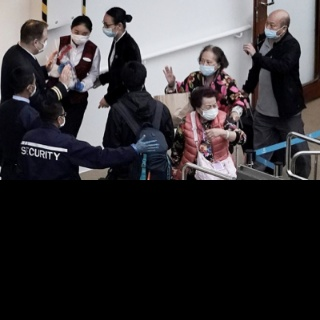with_mask: (200, 100, 219, 122), (198, 56, 215, 76), (71, 28, 90, 45), (101, 20, 117, 39), (264, 19, 280, 38), (36, 35, 48, 55), (28, 78, 37, 96), (60, 111, 67, 128)
